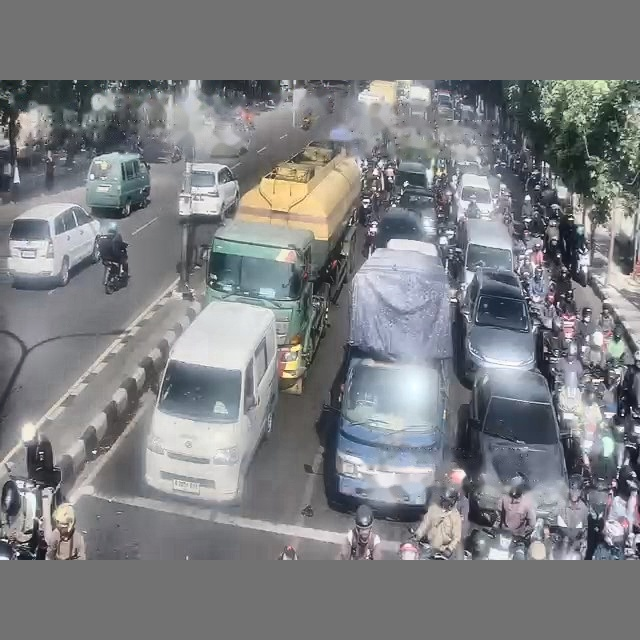Mobil: (460, 369, 567, 520), (459, 269, 537, 378), (8, 203, 100, 286), (179, 163, 239, 221), (375, 207, 427, 248), (399, 186, 436, 240), (210, 120, 249, 157), (141, 135, 181, 162), (395, 159, 430, 188)
Motor: (103, 260, 128, 294)
Truk: (206, 143, 360, 394), (325, 248, 452, 511)
